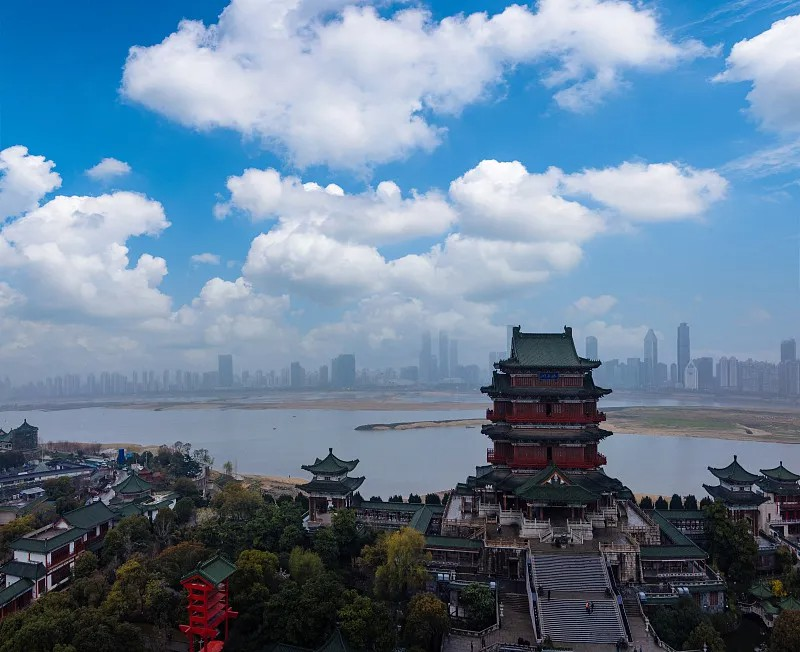Teng: (454, 324, 635, 523)
